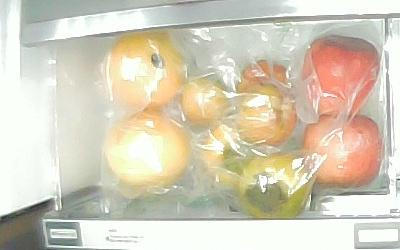apple_vinyl: (302, 34, 379, 116), (303, 114, 383, 188)
grapefruit_vinyl: (104, 108, 188, 187), (102, 29, 183, 104)
persimmon_vinyl: (235, 156, 311, 219), (203, 125, 262, 184)
prune_vinyl: (237, 83, 297, 149), (182, 76, 230, 125)
